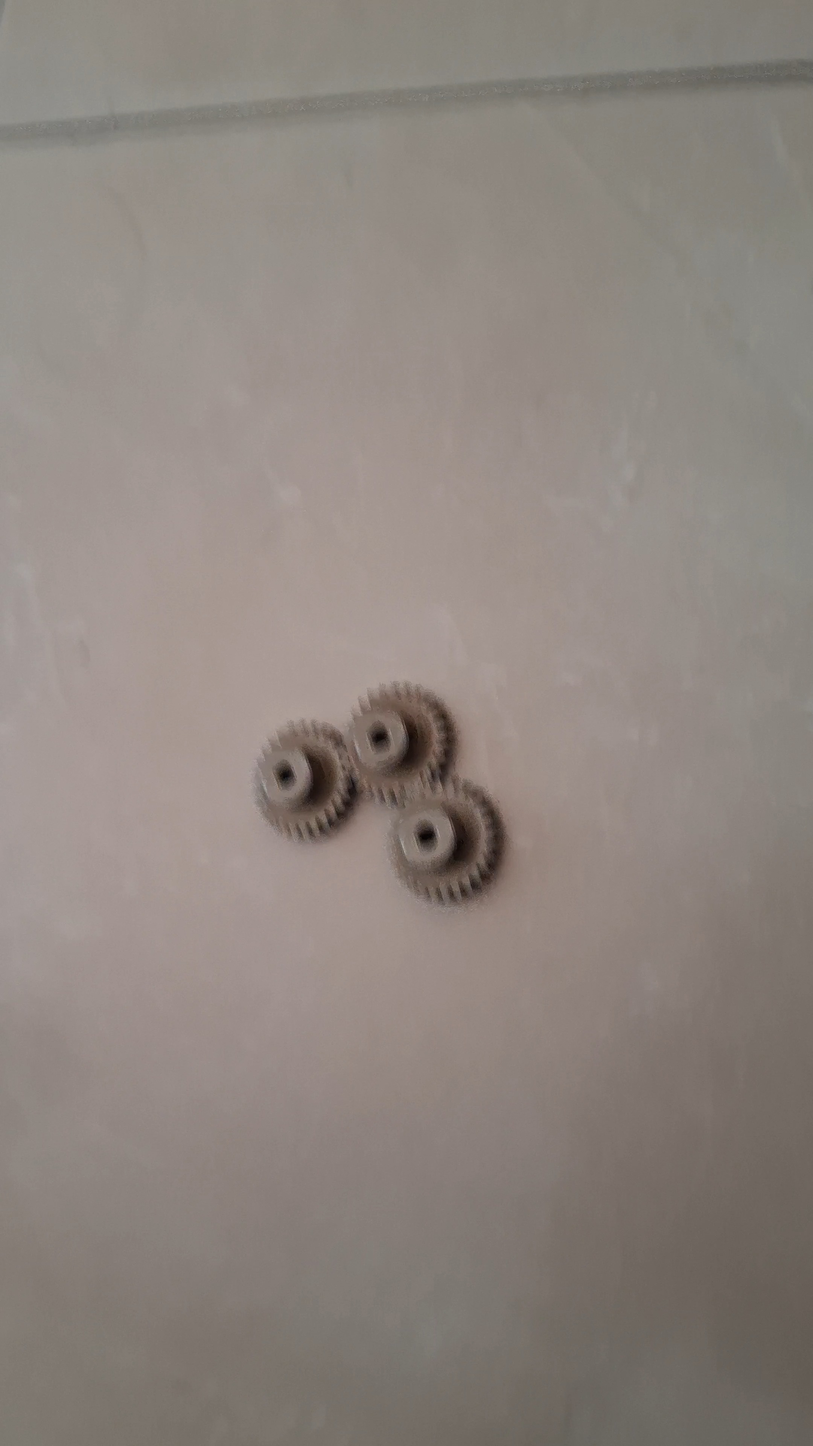spur gear: (389, 778, 501, 903), (348, 683, 452, 803), (255, 721, 354, 839)
